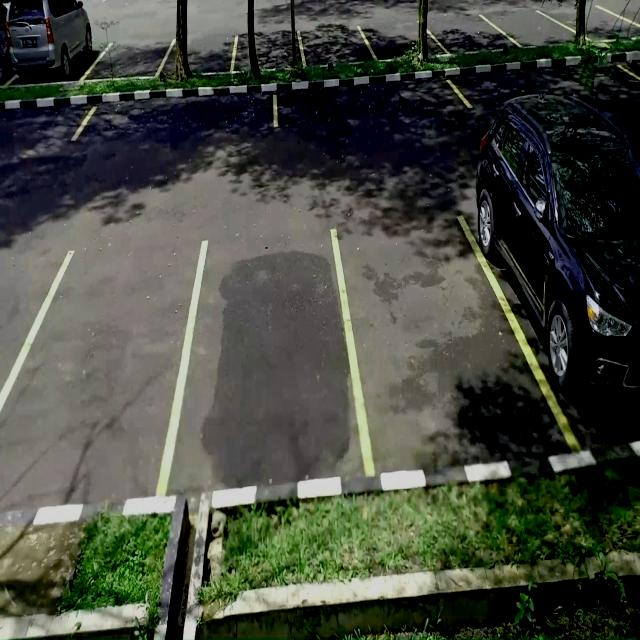empty: (334, 213, 575, 471), (0, 235, 206, 505), (165, 228, 367, 481), (76, 91, 277, 150), (274, 78, 465, 139), (233, 23, 304, 75), (424, 17, 522, 54), (162, 32, 239, 78), (297, 20, 373, 64), (103, 35, 170, 78), (499, 8, 564, 52), (368, 22, 435, 62), (565, 6, 628, 40)
occupied: (466, 78, 640, 451), (9, 23, 100, 86)
